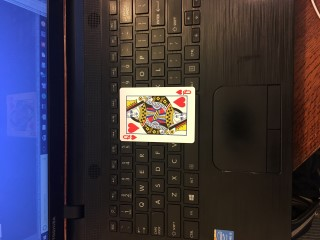QueenOfHearts: (119, 87, 195, 143)
